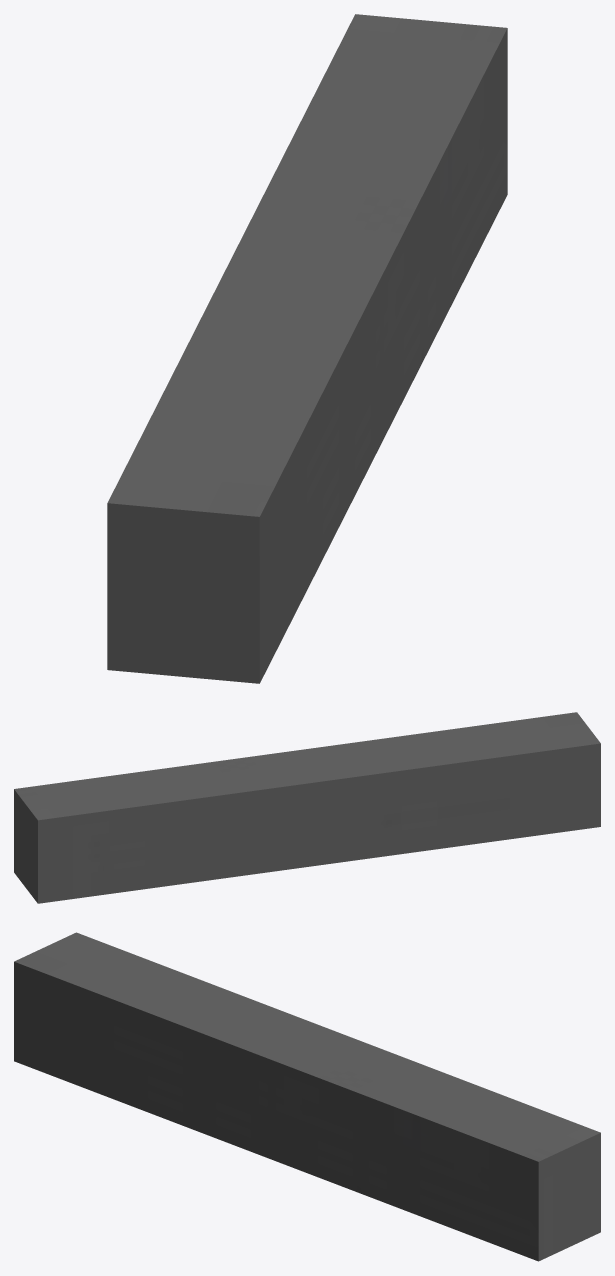
File: frame__seat_hinge_strut.glb
3 renders of one model, top to bottom at view 1: azimuth 30°, elevation 25°; view 2: azimuth 150°, elevation 25°; view 3: azimuth 270°, elevation 25°, orthographic. The views are drawn at different scales.
Parts seen in each view (by area): view 1: geometry_0; view 2: geometry_0; view 3: geometry_0.
Boxes of the visible parts, x1,y1,x2,y2 form: geometry_0: (107,14,507,683); geometry_0: (14,712,600,903); geometry_0: (14,932,600,1261).
Bounding box in the file's own units: 0.3208 × 0.065 × 0.3469.
Materials: 1 (1 with a texture image).
